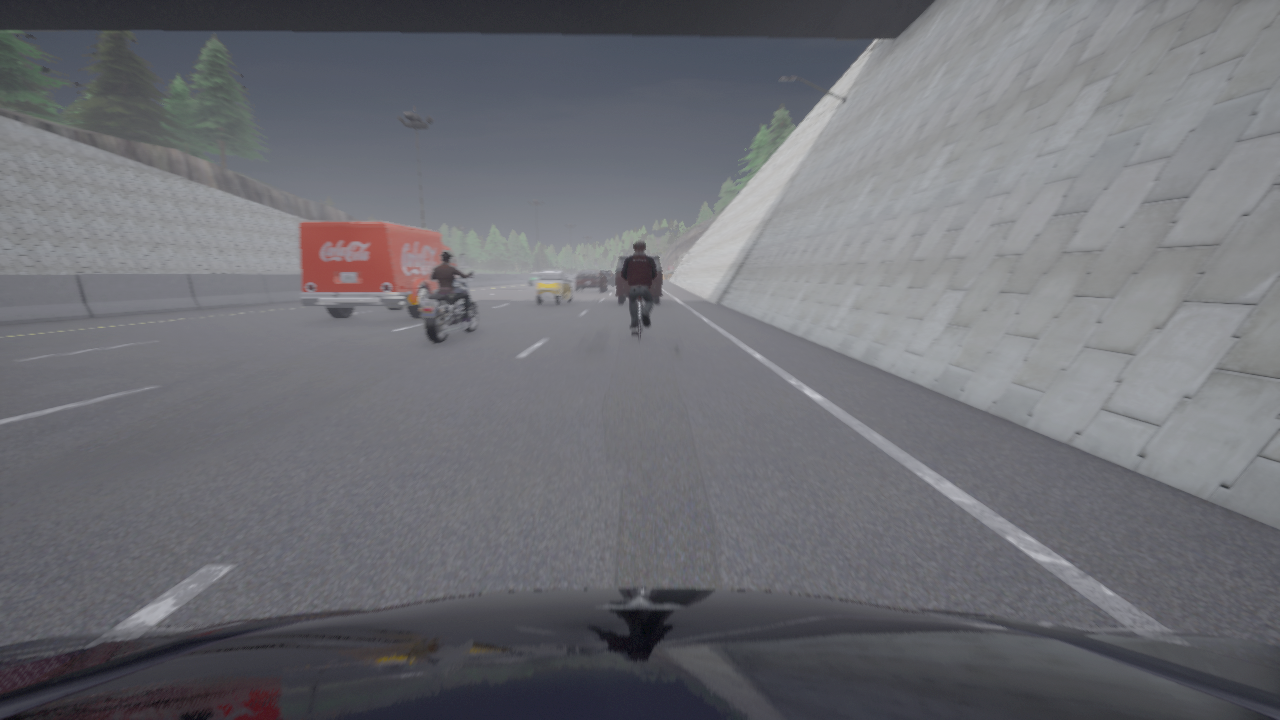cyclist: (0, 588, 1279, 719), (299, 221, 466, 318), (420, 270, 478, 343), (616, 254, 661, 303), (536, 269, 572, 304), (575, 269, 606, 291), (632, 297, 642, 344), (602, 271, 615, 285), (529, 272, 539, 285)
